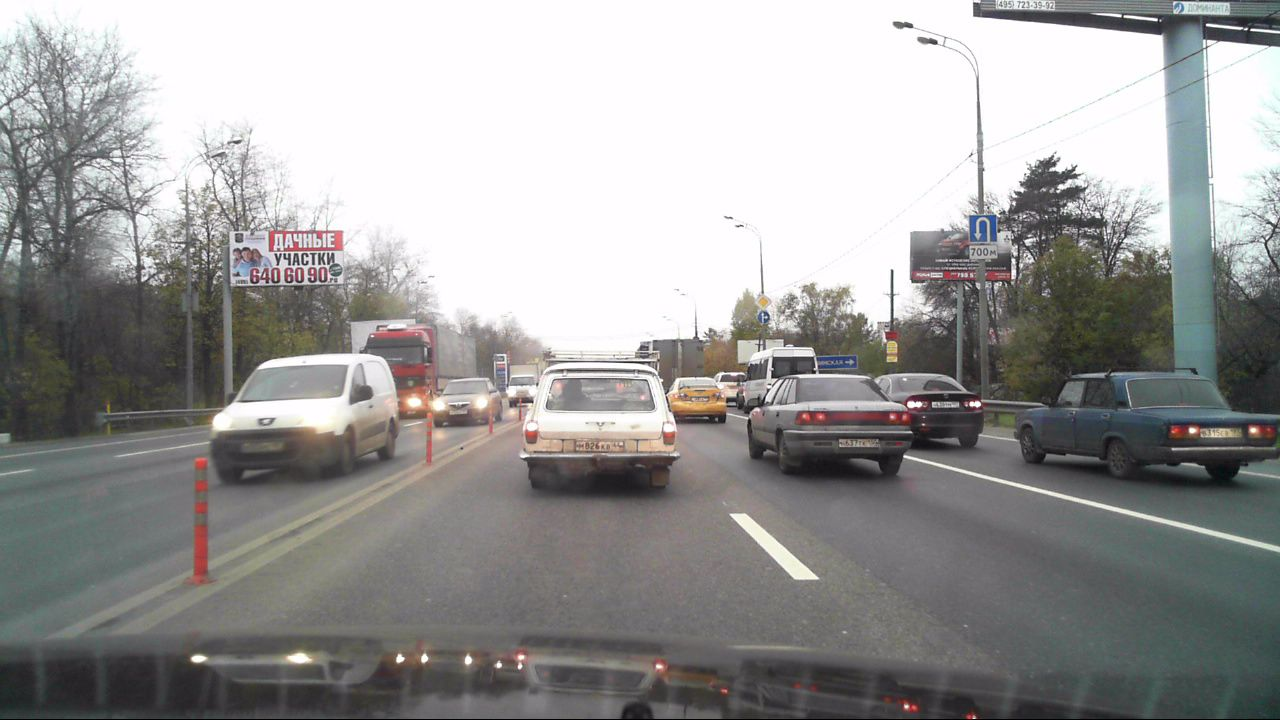U-turn: (969, 215, 997, 243)
